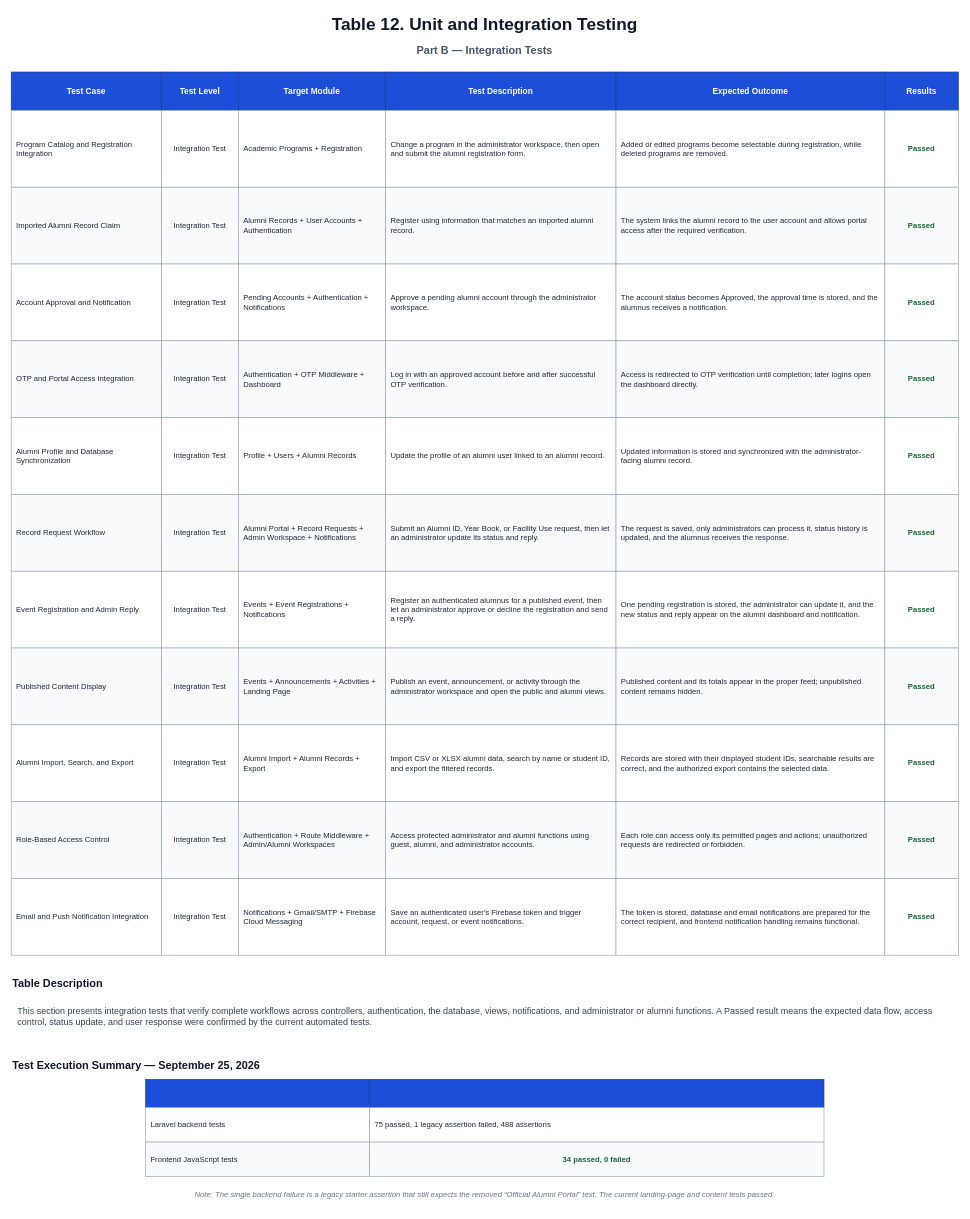
This 970x1219 diagram has some shape labels left out. The shapes that lost their labels are listed below. From the top down, each one's centre as x and y in pixels, then its label:
pixel 257 1093: Test Suite
pixel 596 1093: Result
